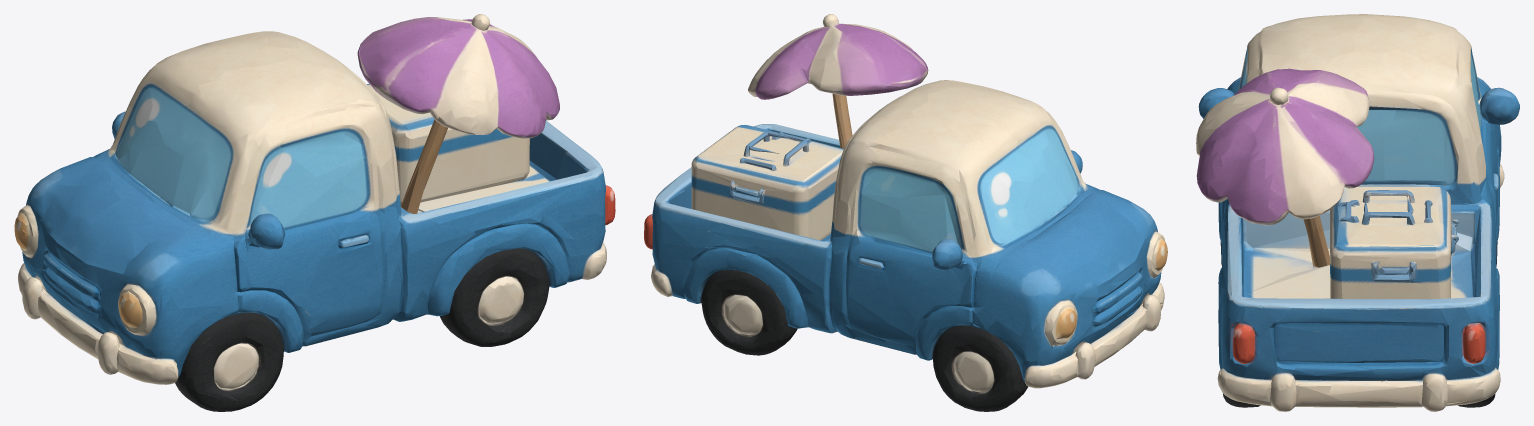
Rendered from model_urls_glb.glb.
The picture shows the model from 3 angles, left to right: view 1: azimuth 30°, elevation 25°; view 2: azimuth 150°, elevation 25°; view 3: azimuth 270°, elevation 25°; orthographic projection. The views are drawn at different scales.
Bounding box in the file's own units: 1.9 × 1.15 × 1.07.
Materials: 1 (1 with a texture image).
